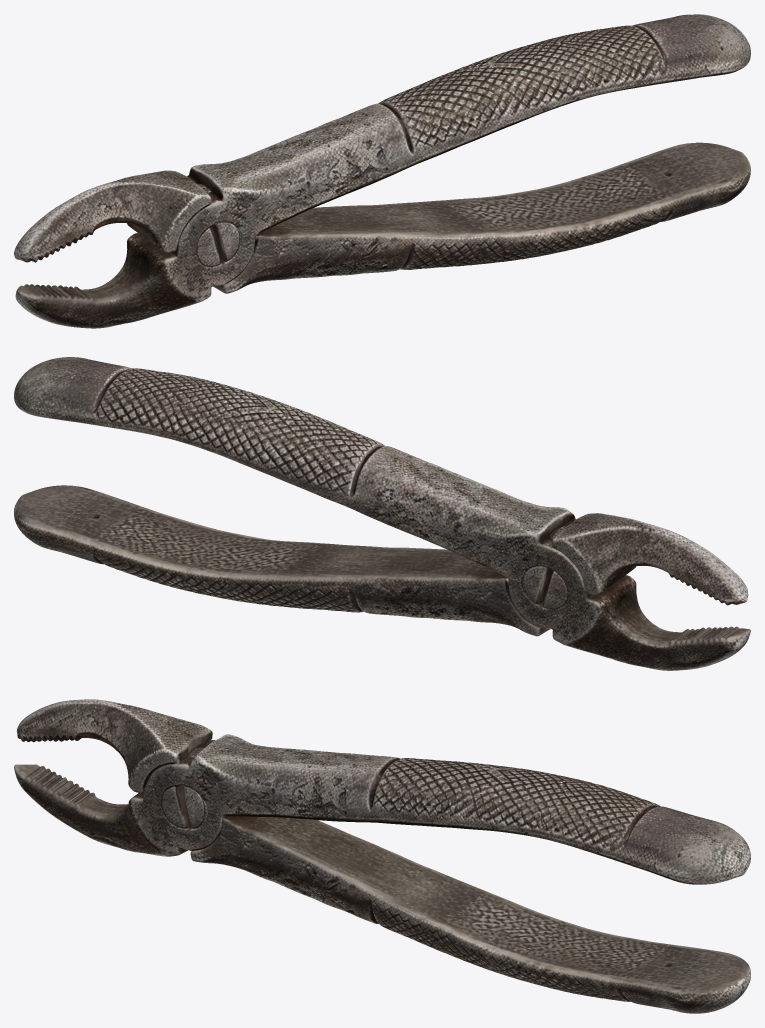
Rendered from pliers.glb.
The picture shows the model from 3 angles, top to bottom: view 1: azimuth 30°, elevation 25°; view 2: azimuth 150°, elevation 25°; view 3: azimuth 330°, elevation 25°; orthographic projection.
Bounding box in the file's own units: 0.9788 × 0.2581 × 0.1246.
1 material, 1 textured.
